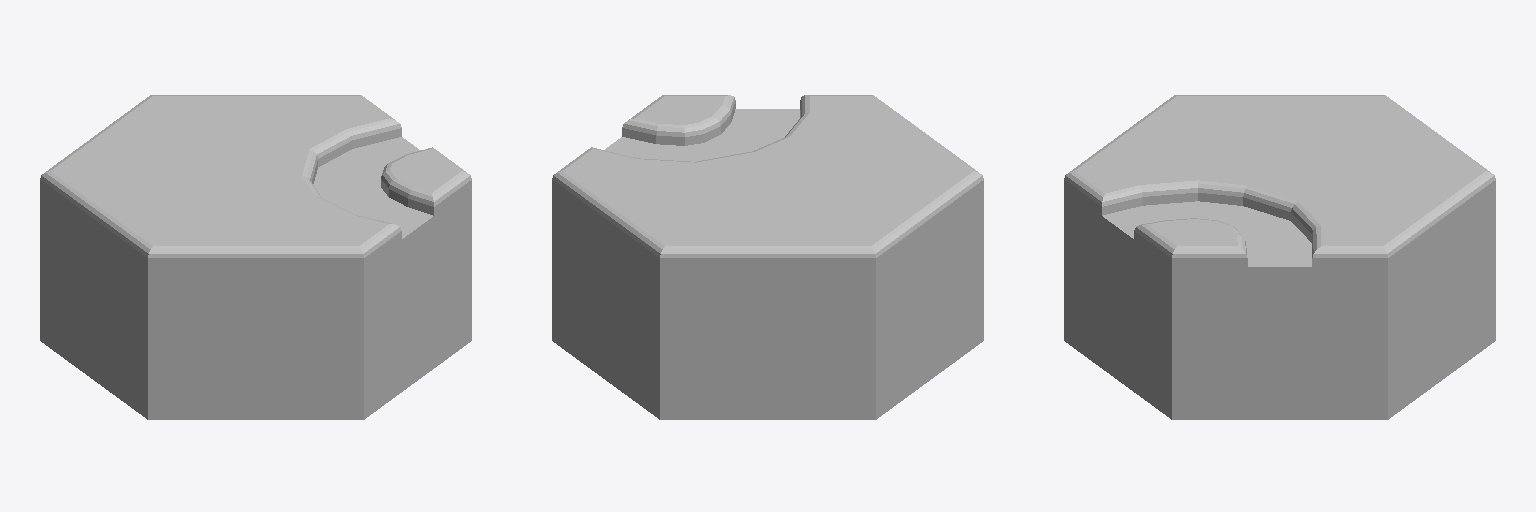
File: hex_forest_roadC.obj
3 renders of one model, left to right at view 1: azimuth 30°, elevation 25°; view 2: azimuth 150°, elevation 25°; view 3: azimuth 270°, elevation 25°, orthographic.
Visible parts, largest first — view 1: hex_forest_roadC_Cylinder.487; view 2: hex_forest_roadC_Cylinder.487; view 3: hex_forest_roadC_Cylinder.487.
Boxes of the visible parts, box(x1,y1,x2,y2) form: hex_forest_roadC_Cylinder.487: box(40, 95, 471, 419); hex_forest_roadC_Cylinder.487: box(552, 95, 983, 419); hex_forest_roadC_Cylinder.487: box(1064, 95, 1495, 419).
Size of the model in its own units: 2 by 1 by 2.31.